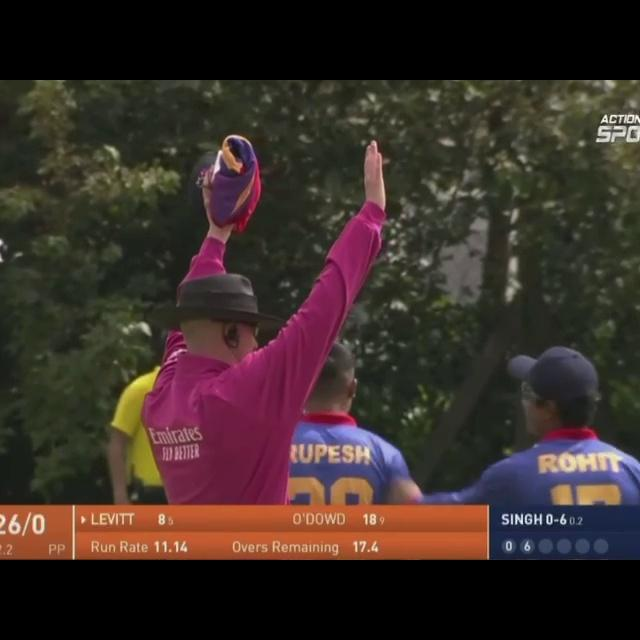umpire: (71, 98, 496, 421)
